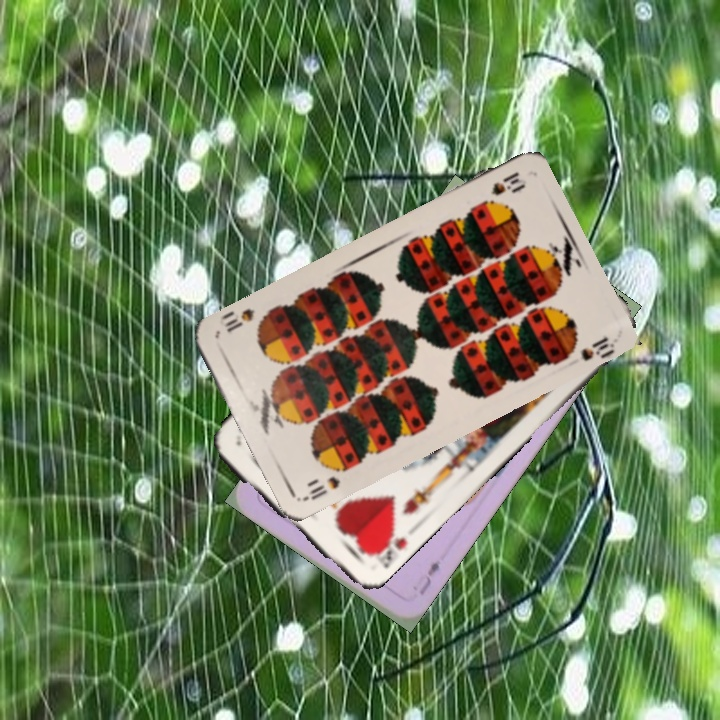EU: (414, 556, 444, 599)
HK: (364, 524, 410, 570)
S10: (301, 461, 352, 503), (486, 167, 530, 198)
